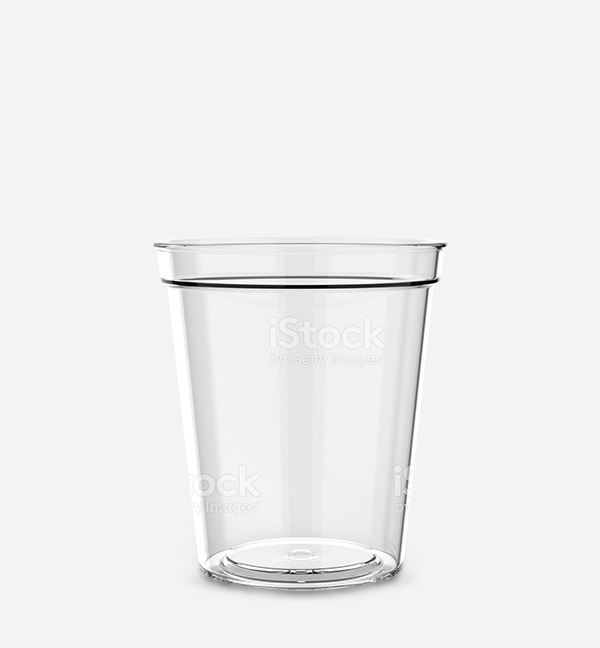plastic_bottle: (145, 232, 454, 603)
